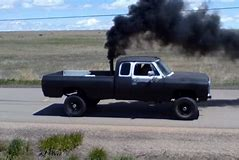smoke: (103, 1, 239, 59)
